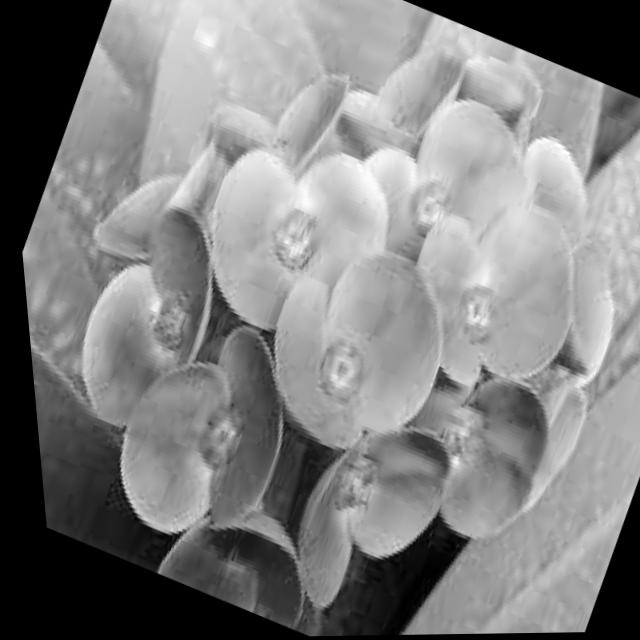Flower: (130, 78, 471, 397), (202, 200, 513, 516), (289, 49, 598, 359), (56, 289, 328, 564), (360, 167, 620, 419), (250, 376, 482, 626), (26, 206, 249, 457), (359, 328, 577, 566), (135, 465, 333, 633)
